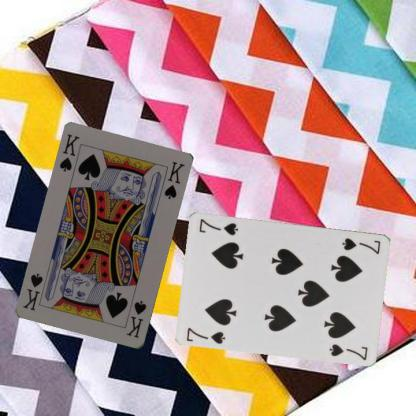7s: (339, 235, 382, 256), (184, 325, 227, 345)
Ks: (57, 132, 82, 173), (124, 298, 148, 340)
